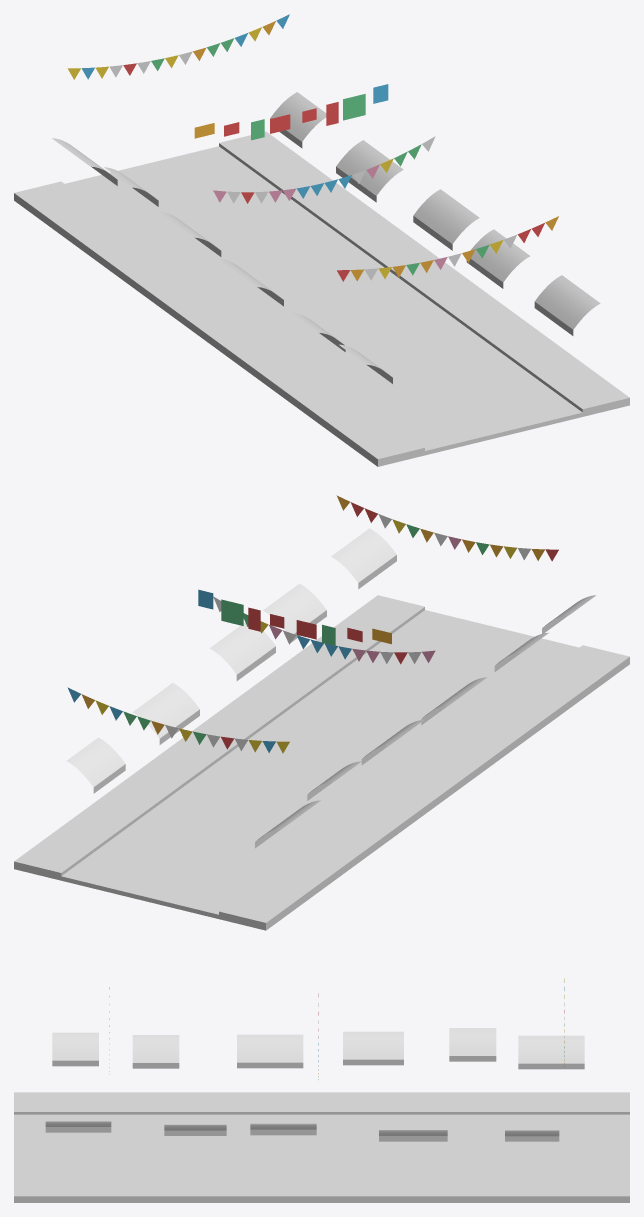
The model's file is Harita_11_Mahalle_Dolmus_Duragi_Ozel.fbx.
The picture shows the model from 3 angles, top to bottom: view 1: azimuth 30°, elevation 25°; view 2: azimuth 150°, elevation 25°; view 3: azimuth 270°, elevation 25°; orthographic projection. The views are drawn at different scales.
Parts seen in each view (by area): view 1: Harita_11_Yol.001, Harita_11_Kaldirim_L.001, Harita_11_Kaldirim_R.001, Camasirlar.010, Tente.157, Tente.155, Tente.158, Tente.156, Bayraklar.040, Bayraklar.038, Bayraklar.039, Tente.159; view 2: Harita_11_Yol.001, Harita_11_Kaldirim_L.001, Harita_11_Kaldirim_R.001, Camasirlar.010, Tente.155, Tente.157, Tente.158, Tente.159, Tente.156, Bayraklar.040, Bayraklar.038, Bayraklar.039; view 3: Harita_11_Yol.001, Harita_11_Kaldirim_R.001, Harita_11_Kaldirim_L.001, Tente.154, Tente.151, Tente.152, Tente.149, Tente.150, Tente.153, Tente.157, Tente.158, Tente.155 (+2 smaller).
Boxes of the visible parts, <box> form: Harita_11_Yol.001: <box>65,146,582,455</box>; Harita_11_Kaldirim_L.001: <box>14,181,424,466</box>; Harita_11_Kaldirim_R.001: <box>219,131,629,416</box>; Camasirlar.010: <box>194,84,388,140</box>; Tente.157: <box>413,189,479,250</box>; Tente.155: <box>534,275,600,335</box>; Tente.158: <box>336,140,403,202</box>; Tente.156: <box>466,229,530,288</box>; Bayraklar.040: <box>67,14,289,79</box>; Bayraklar.038: <box>337,216,558,281</box>; Bayraklar.039: <box>213,136,435,203</box>; Tente.159: <box>270,92,326,148</box>; Harita_11_Yol.001: <box>61,610,578,918</box>; Harita_11_Kaldirim_L.001: <box>219,645,629,930</box>; Harita_11_Kaldirim_R.001: <box>14,595,424,880</box>; Camasirlar.010: <box>198,589,391,645</box>; Tente.155: <box>331,528,396,589</box>; Tente.157: <box>209,622,275,680</box>; Tente.158: <box>132,683,199,744</box>; Tente.159: <box>66,737,125,793</box>; Tente.156: <box>263,583,326,642</box>; Bayraklar.040: <box>67,687,289,753</box>; Bayraklar.038: <box>336,495,558,561</box>; Bayraklar.039: <box>213,596,435,664</box>; Harita_11_Yol.001: <box>14,1114,629,1176</box>; Harita_11_Kaldirim_R.001: <box>14,1177,629,1202</box>; Harita_11_Kaldirim_L.001: <box>14,1092,629,1114</box>; Tente.154: <box>518,1035,584,1069</box>; Tente.151: <box>237,1034,303,1068</box>; Tente.152: <box>343,1031,403,1065</box>; Tente.149: <box>52,1032,98,1066</box>; Tente.150: <box>132,1035,179,1068</box>; Tente.153: <box>449,1028,496,1061</box>; Tente.157: <box>250,1123,316,1135</box>; Tente.158: <box>379,1130,447,1141</box>; Tente.155: <box>45,1121,111,1132</box>.
Size of the model in its own units: 12 by 8.12 by 30.
